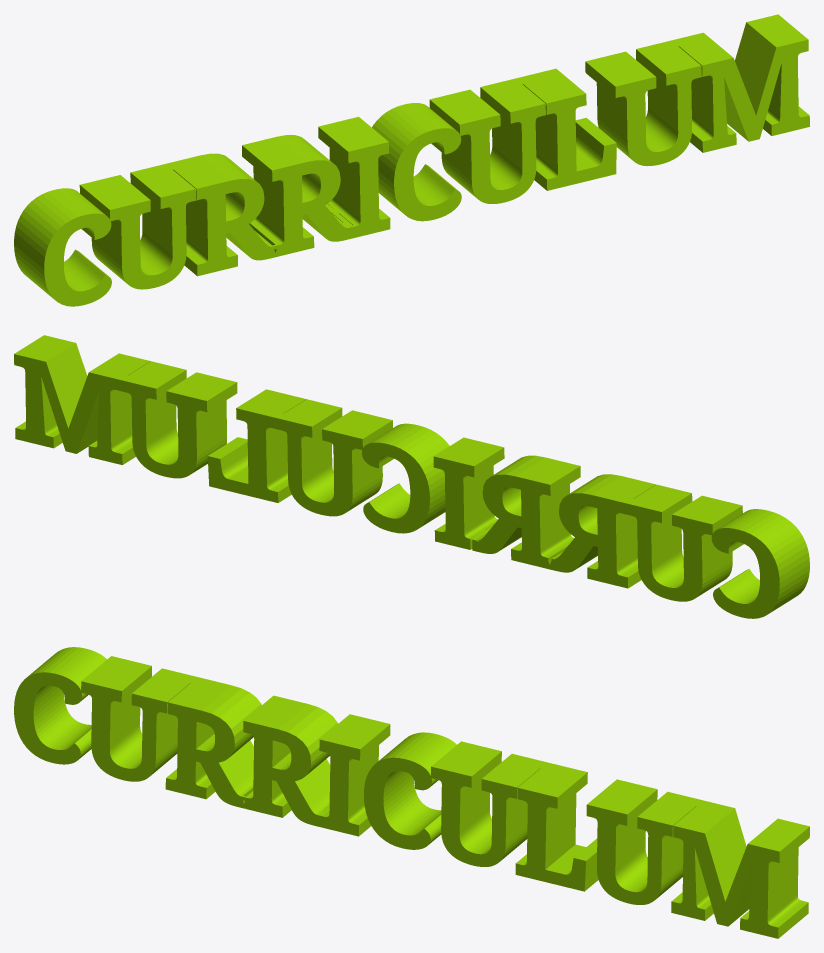
File: curriculum.glb
The picture shows the model from 3 angles, top to bottom: view 1: azimuth 30°, elevation 25°; view 2: azimuth 150°, elevation 25°; view 3: azimuth 330°, elevation 25°; orthographic projection.
Parts seen in each view (by area): view 1: Mesh_Mesh_head_geo.001_lambert2SG.001; view 2: Mesh_Mesh_head_geo.001_lambert2SG.001; view 3: Mesh_Mesh_head_geo.001_lambert2SG.001.
Boxes of the visible parts, bbox=[...] form: Mesh_Mesh_head_geo.001_lambert2SG.001: bbox=[14, 14, 809, 306]; Mesh_Mesh_head_geo.001_lambert2SG.001: bbox=[14, 335, 809, 618]; Mesh_Mesh_head_geo.001_lambert2SG.001: bbox=[14, 647, 809, 938].
Bounding box in the file's own units: 183 × 20.9 × 13.11.
